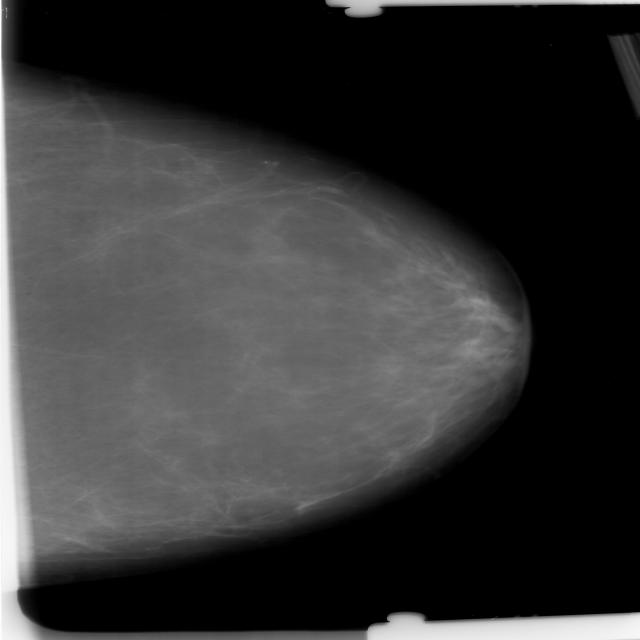normal: (0, 29, 553, 577)
